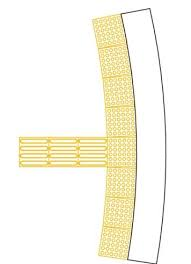guide_blocks: (94, 13, 135, 138), (20, 138, 136, 167), (98, 167, 132, 257)
